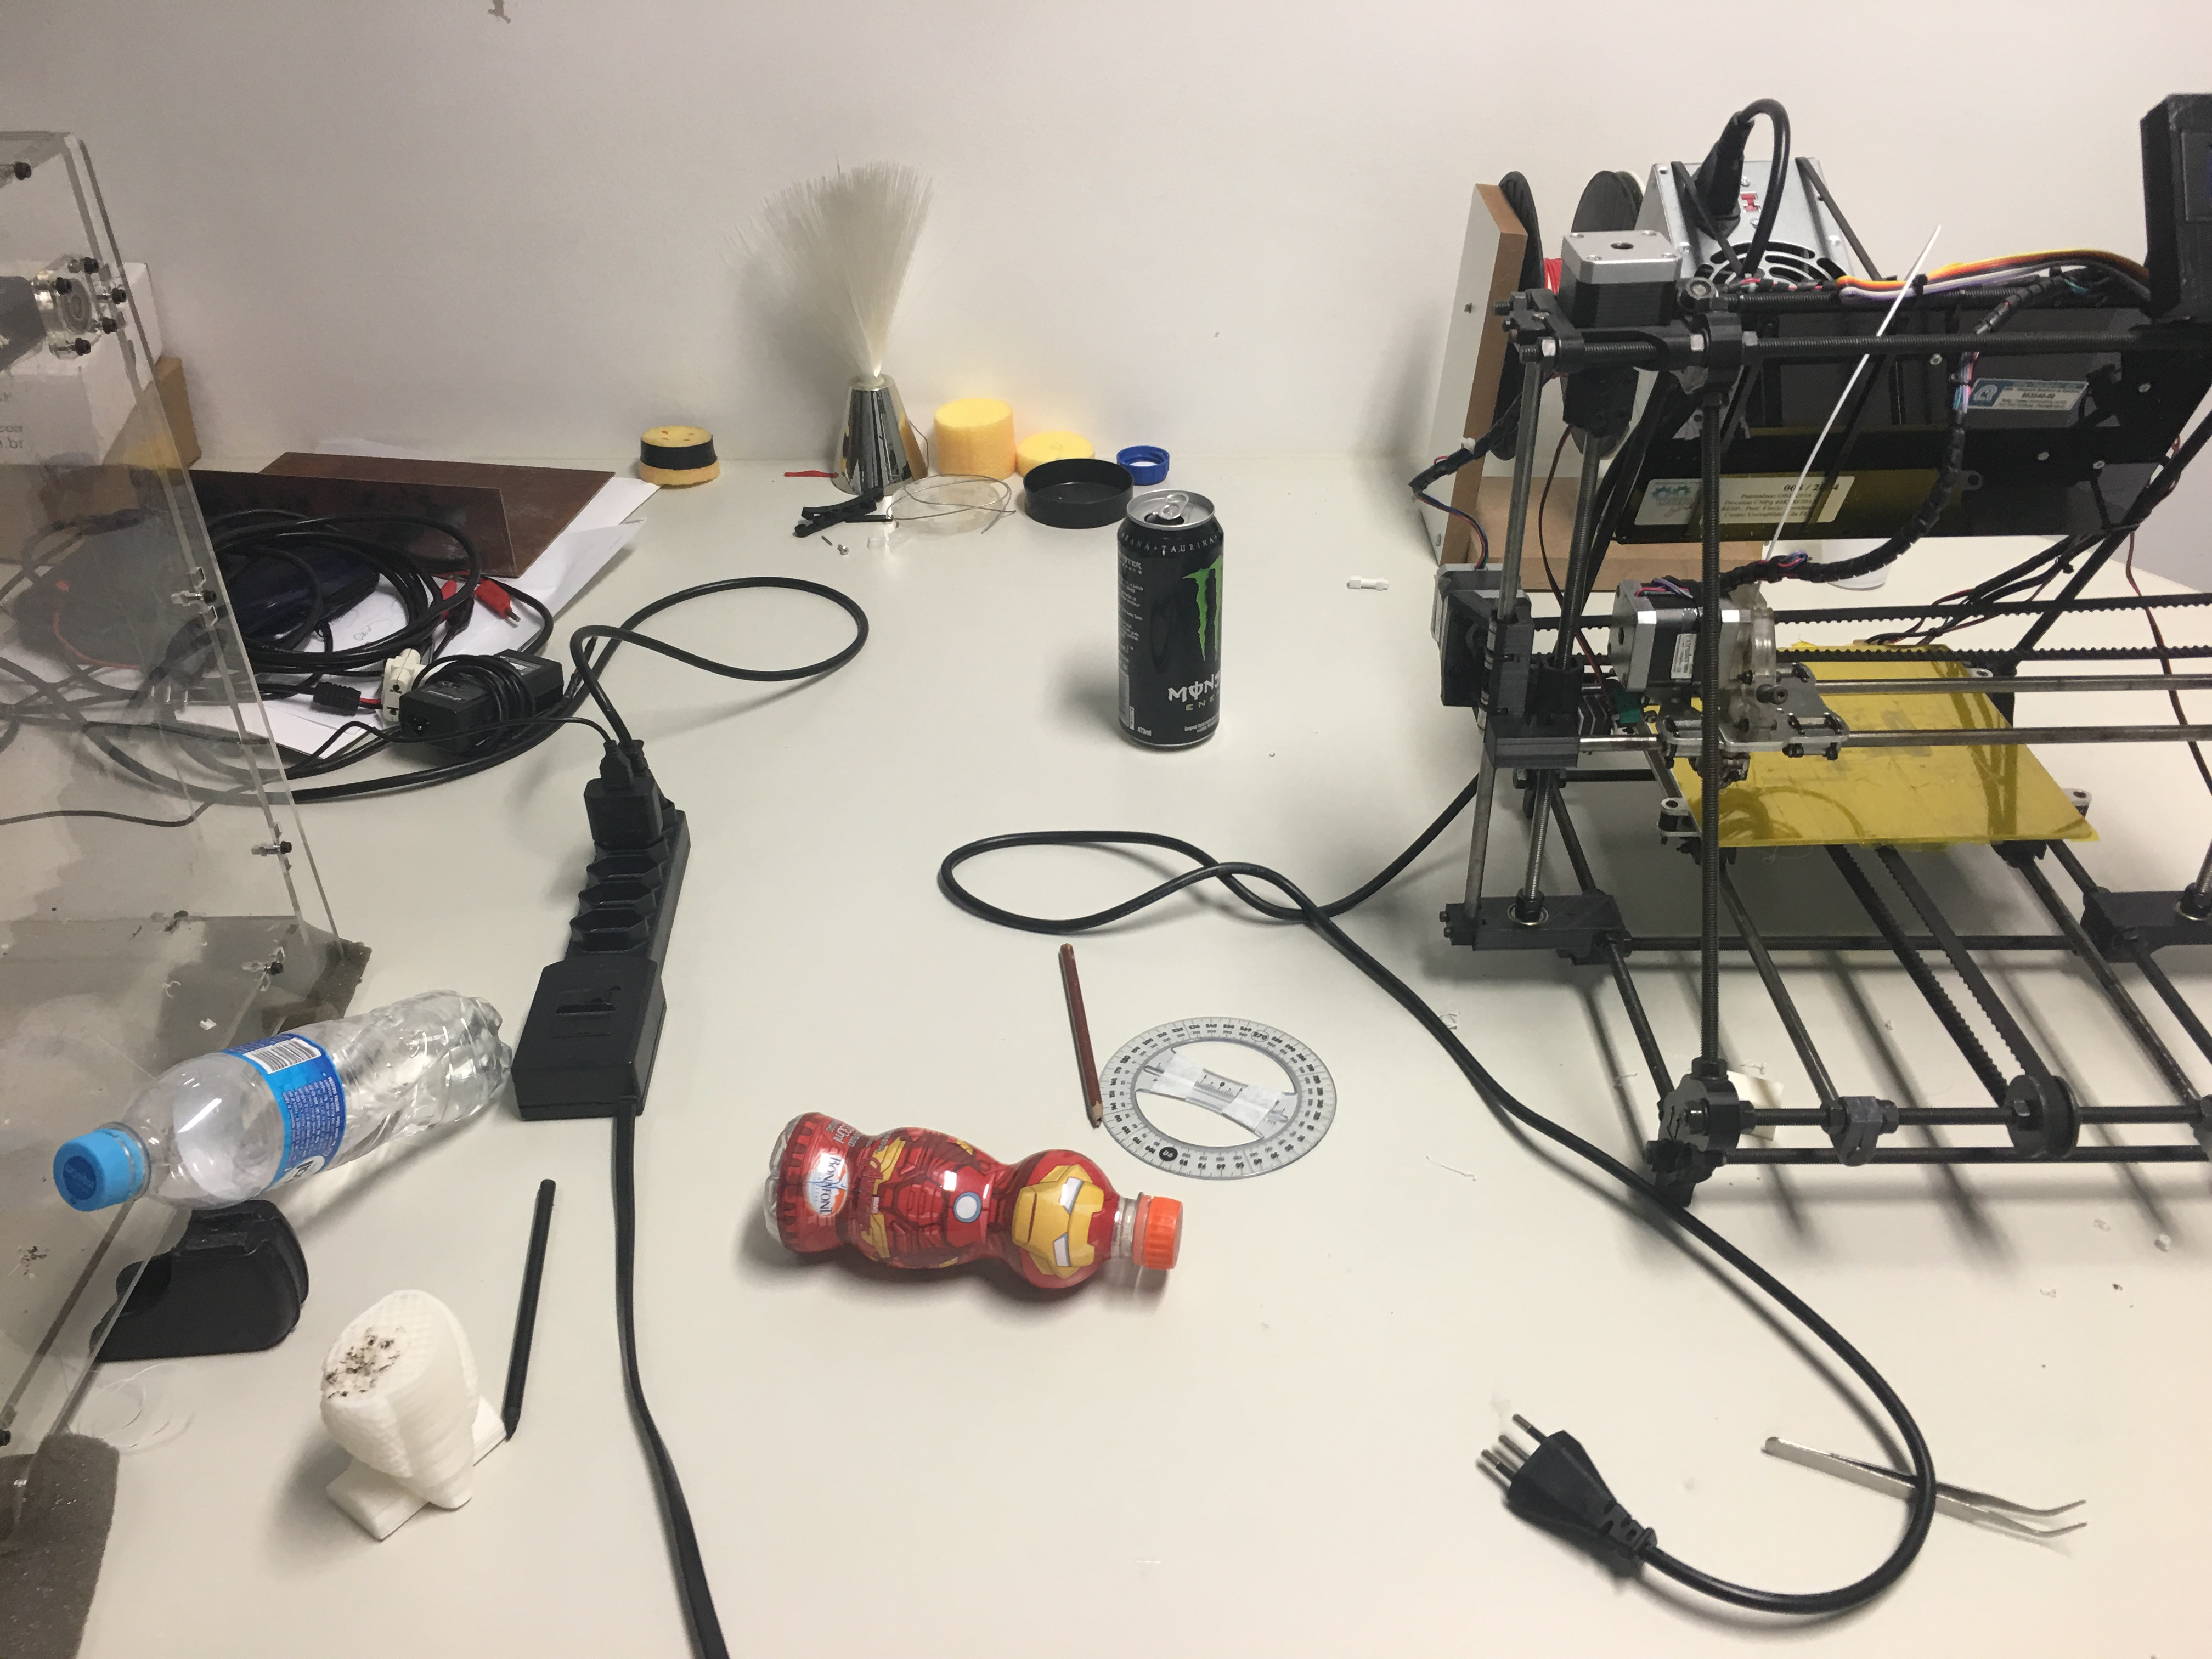iron_man: (752, 1113, 1188, 1310)
monster: (1110, 481, 1230, 758)
